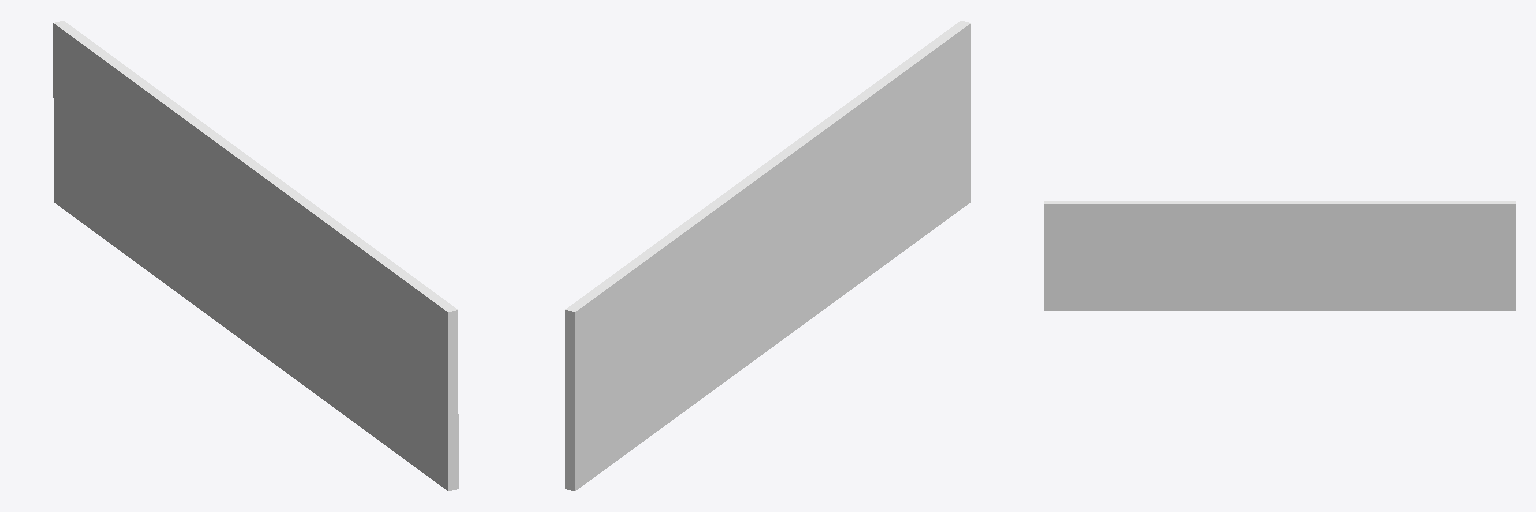
The robot description file, URDF, robot "mur2.urdf":
<?xml version="0.0" ?>
<robot name="mur2.urdf">
  <link name="baseLink">
    <contact>
      <lateral_friction value="1.0"/>
    </contact>
    <inertial>
      <origin rpy="0 0 0" xyz="0 0 0"/>
       <mass value=".0"/>
       <inertia ixx="1" ixy="0" ixz="0" iyy="1" iyz="0" izz="1"/>
    </inertial>
    <visual>
      <origin rpy="1.57 0 1.57" xyz="0 0 0.6"/>
      <geometry>
				<mesh filename="animalerie.obj" scale="2 0.5 0.03"/>
      </geometry>
       <material name="white">
        <color rgba="1 1 1 1"/>
      </material>
    </visual>
    <collision>
      <origin rpy="0 0 0" xyz="0 0 0.6"/>
      <geometry>
	 	<box size="1.5 1 0.05"/>
      </geometry>
    </collision>
	<visual>
      <origin rpy="0 0 0" xyz="-0.65 -0.4 0.29"/>
      <geometry>
	    <mesh filename="StylishDesk.obj" scale="0.0001 0.0001 0.00058"/>
      </geometry>
	  <material name="framemat0"/>	 
    </visual>
    <visual>
      <origin rpy="0 0 0" xyz="-0.65 0.4 0.29"/>
      <geometry>
        <mesh filename="StylishDesk.obj" scale="0.0001 0.0001 0.00058"/>
      </geometry>
	  <material name="framemat0"/>
	  </visual>
    <visual>
      <origin rpy="0 0 0" xyz="0.65 -0.4 0.29"/>
      <geometry>
        <mesh filename="StylishDesk.obj" scale="0.0001 0.0001 0.00058"/>
      </geometry>
	  <material name="framemat0"/>
	  </visual>
    <visual>
      <origin rpy="0 0 0" xyz="0.65 0.4 0.29"/>
      <geometry>
        <mesh filename="StylishDesk.obj" scale="0.0001 0.0001 0.00058"/>
      </geometry>
    </visual>
  </link>
</robot>

--- Render facts (derived) ---
The picture shows the robot from 3 angles, left to right: view 1: azimuth 30°, elevation 25°; view 2: azimuth 150°, elevation 25°; view 3: azimuth 270°, elevation 25°; orthographic projection.
Model mur2.urdf with 1 links and 0 joints (none), rooted at baseLink, posed all joints at 0.
Links seen in each view (by area): view 1: baseLink; view 2: baseLink; view 3: baseLink.
Link boxes in pixels (bbox=[...]): baseLink: bbox=[53, 21, 458, 490]; baseLink: bbox=[565, 21, 970, 490]; baseLink: bbox=[1044, 201, 1515, 310].
Bounding box of the posed robot: 0.032 × 2 × 0.5 m (x, y, z).
1 mesh visuals loaded from 2 distinct referenced files (1 OBJ); not drawn: 4 (reference not matched to a file when rendering).